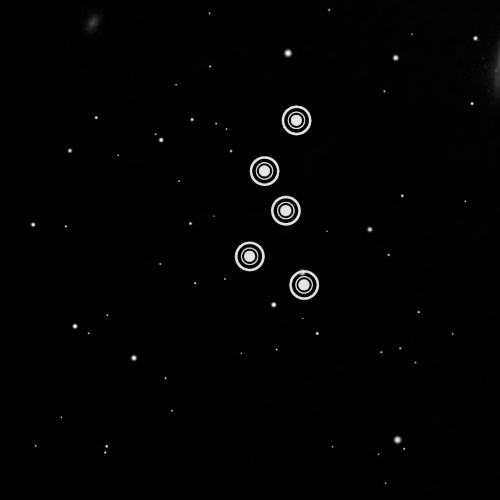cassiopeia: (232, 90, 326, 314)
